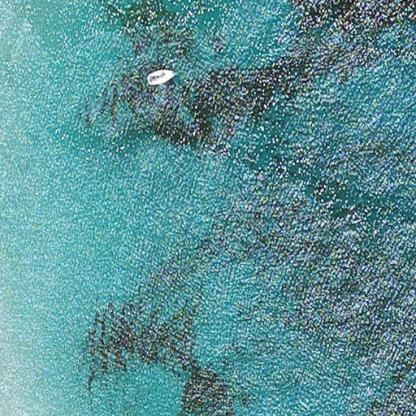ship: (145, 75, 177, 78)
